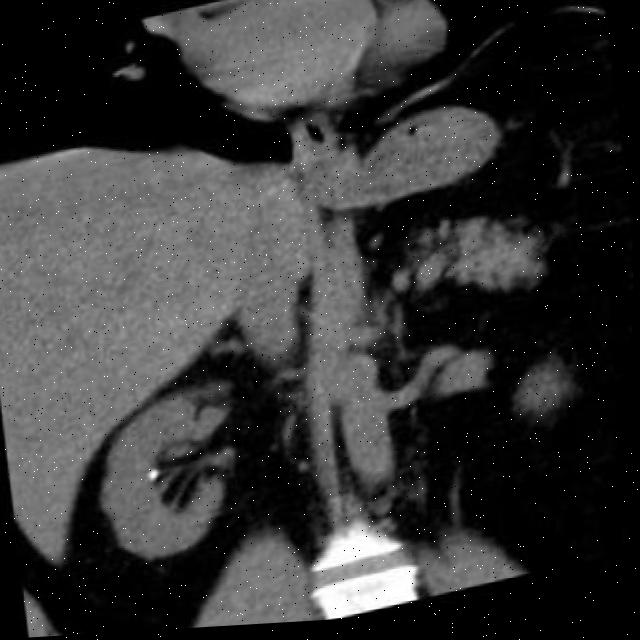Tas_Var: (143, 464, 163, 488)
